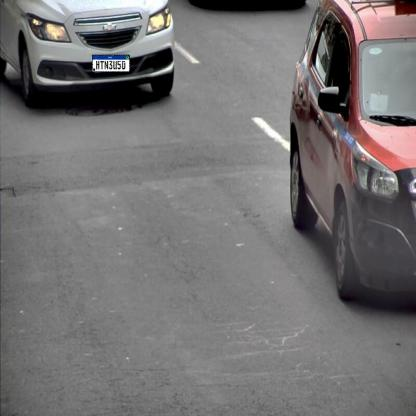PlacaM: (92, 55, 130, 72)
